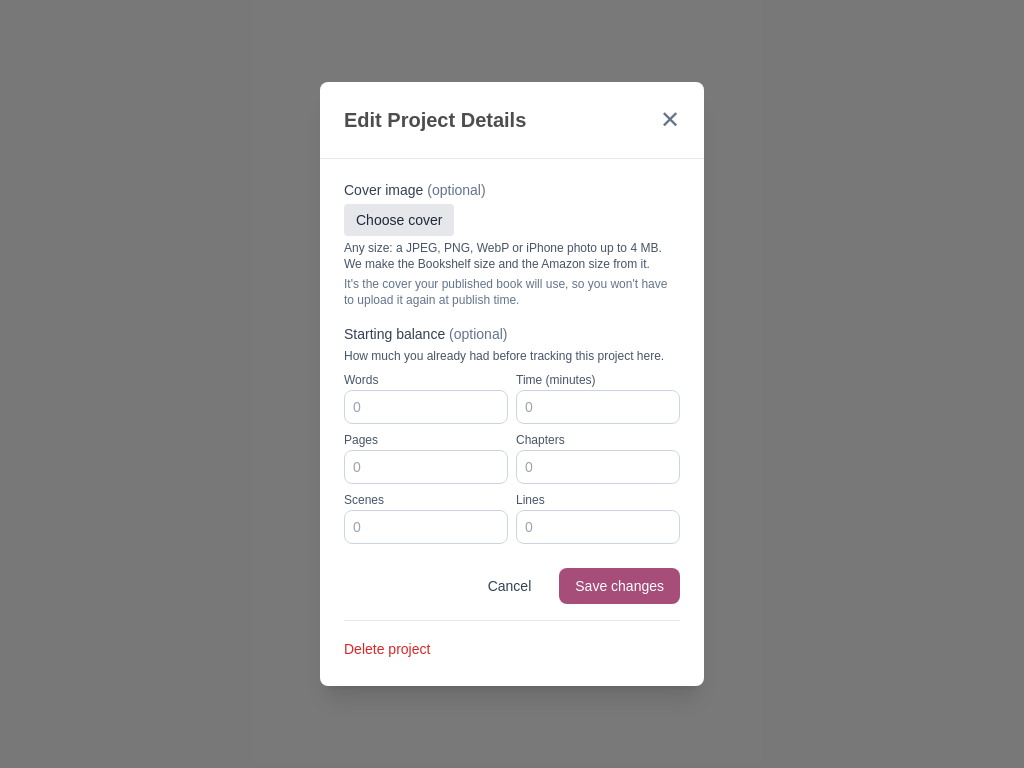
Scenario: ProjectDetailsModal delete › stays and says why when the delete fails
(page scrolled)
Click the button "Delete project": click(387, 649) [344, 639, 430, 659]
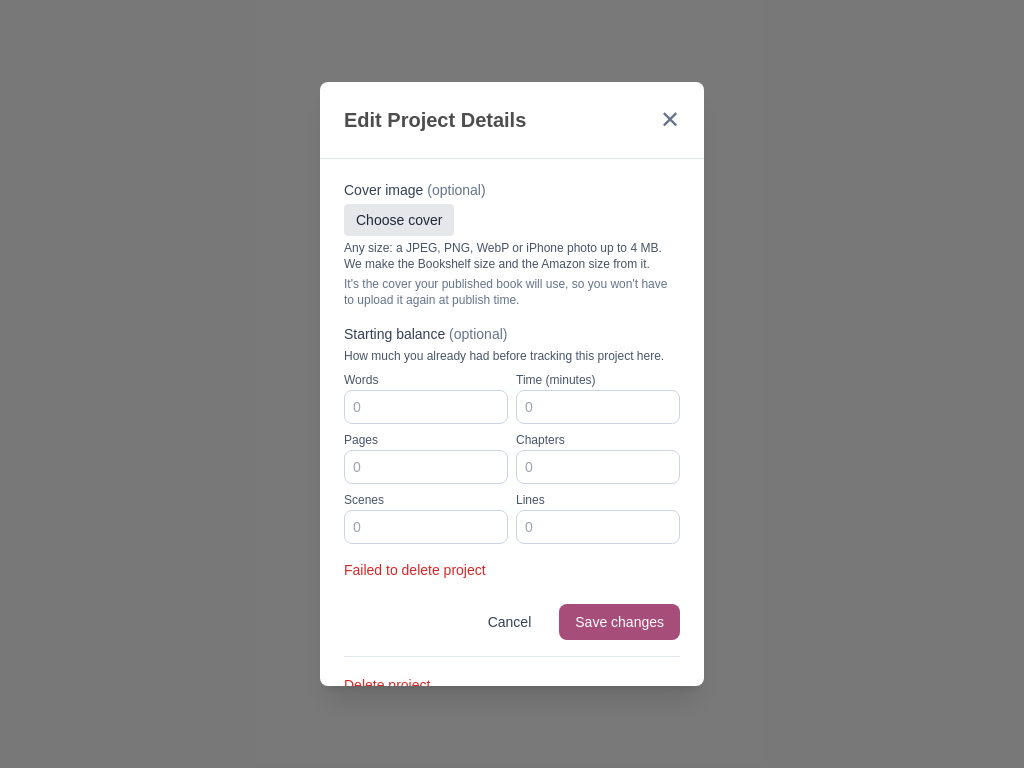
Result: the text "Failed to delete project" is shown at [344, 562, 486, 578]
